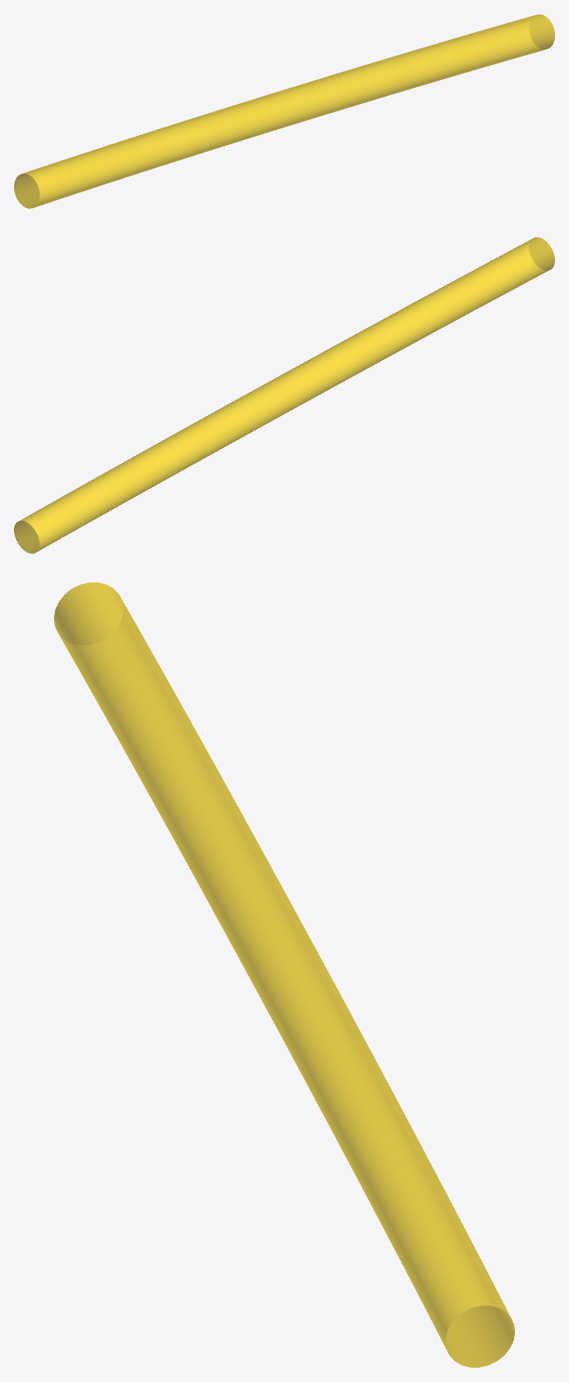
Rendered from Event_15818458_track_43.fbx.
3 renders of one model, top to bottom at view 1: azimuth 30°, elevation 25°; view 2: azimuth 210°, elevation 25°; view 3: azimuth 270°, elevation 25°, orthographic. The views are drawn at different scales.
Parts seen in each view (by area): view 1: Model; view 2: Model; view 3: Model.
Part boxes in pixels (<box>): Model: <box>14,14,554,208</box>; Model: <box>14,237,554,553</box>; Model: <box>54,582,514,1367</box>.
Bounding box in the file's own units: 0.7951 × 0.1157 × 0.2553.
